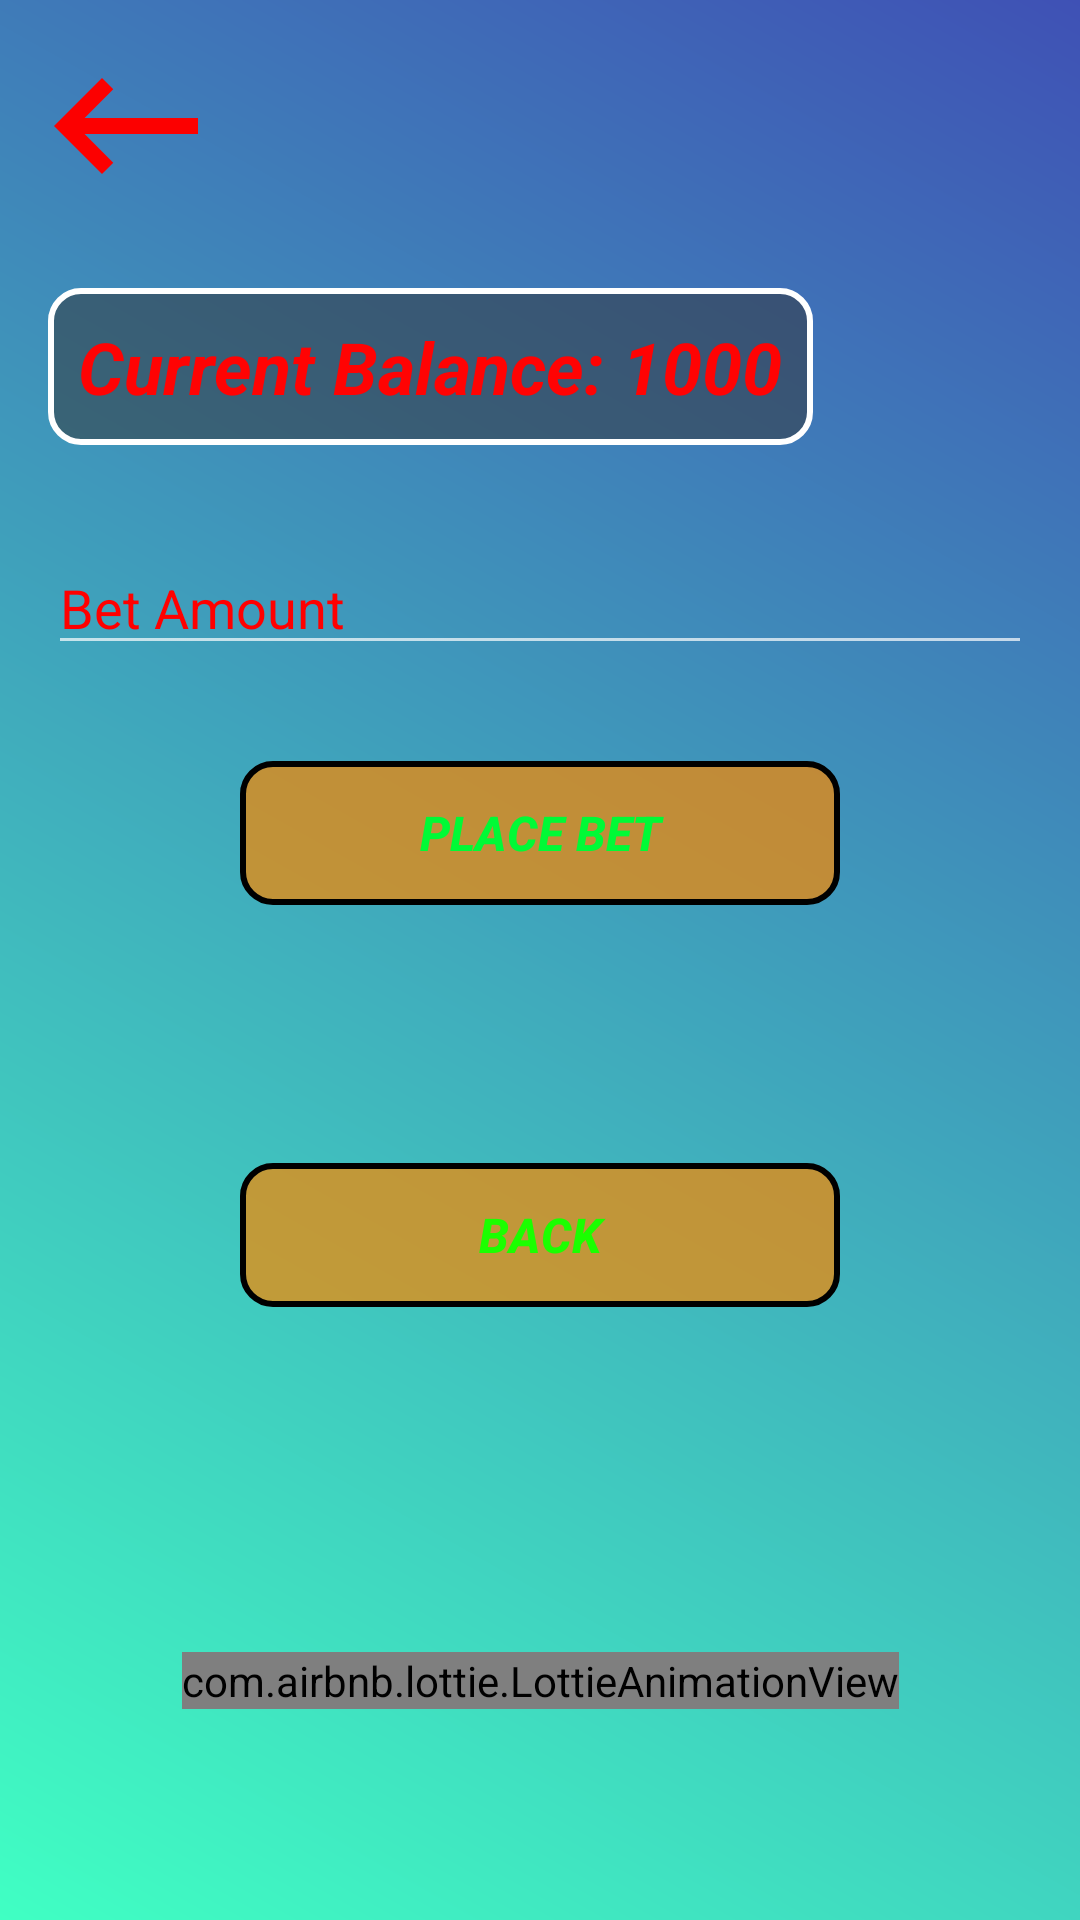

Icons on this 1080*1920 Android screen, each with the point to tap as point (x, y):
back: point (126, 126)
